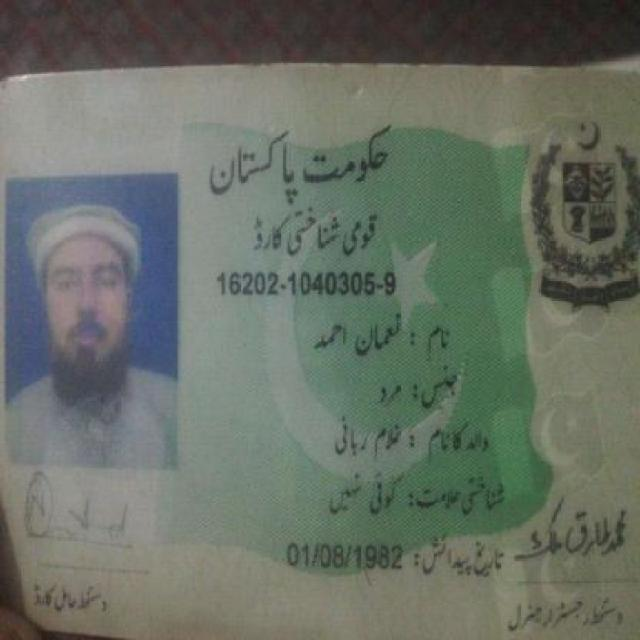Front: (12, 55, 634, 634)
